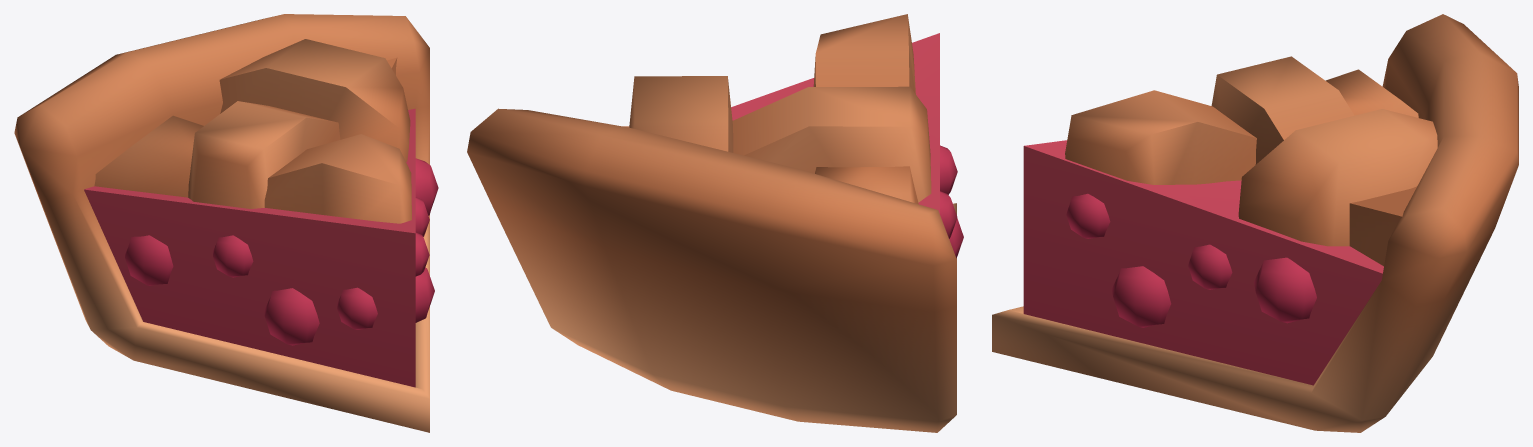
File: pie_cherry_slice.obj
3 renders of one model, left to right at view 1: azimuth 30°, elevation 25°; view 2: azimuth 150°, elevation 25°; view 3: azimuth 270°, elevation 25°, orthographic. The views are drawn at different scales.
Visible parts, largest first — view 1: pie_cherry_slice; view 2: pie_cherry_slice; view 3: pie_cherry_slice.
Part boxes in pixels (box(x1,y1,x2,y2)): pie_cherry_slice: box(14, 14, 438, 432); pie_cherry_slice: box(467, 14, 963, 432); pie_cherry_slice: box(992, 14, 1518, 432).
Size of the model in its own units: 0.5577 by 0.3076 by 0.5707.
Materials: 1 (1 with a texture image).
